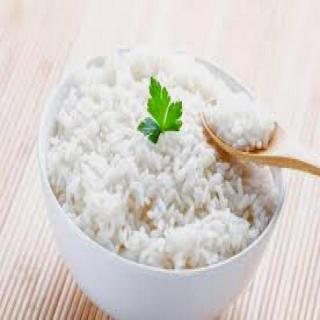Nasi: (46, 43, 282, 269), (205, 92, 280, 152)
